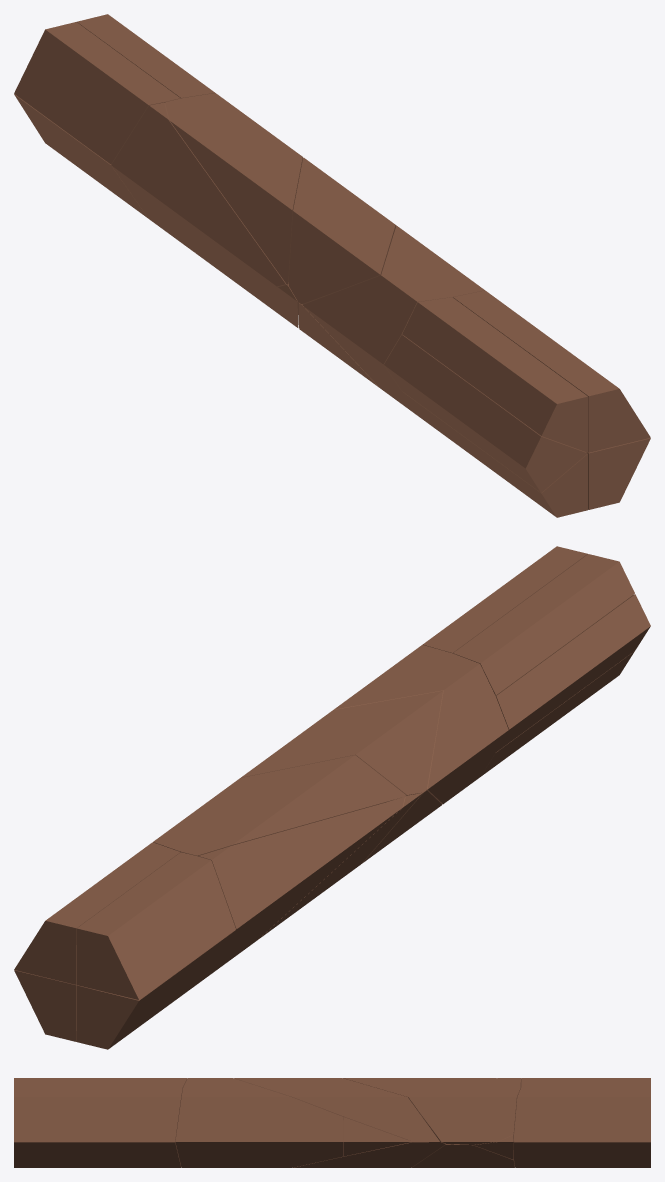
The model's file is BoxBeamBroken.fbx.
3 views of the same model, one above another, from view 1: azimuth 30°, elevation 25°; view 2: azimuth 150°, elevation 25°; view 3: azimuth 270°, elevation 25° (orthographic). The views are drawn at different scales.
Visible parts, largest first — view 1: Cylinder.122_cell.002, Cylinder.122_cell.003, Cylinder.122_cell.013, Cylinder.122_cell.014, Cylinder.122_cell.008, Cylinder.122_cell.009, Cylinder.122_cell.007, Cylinder.122_cell.001, Cylinder.122_cell.015, Cylinder.122_cell.004, Cylinder.122_cell, Cylinder.122_cell.006 (+2 smaller); view 2: Cylinder.122_cell.013, Cylinder.122_cell.002, Cylinder.122_cell.014, Cylinder.122_cell.008, Cylinder.122_cell.003, Cylinder.122_cell.009, Cylinder.122_cell.007, Cylinder.122_cell.004, Cylinder.122_cell, Cylinder.122_cell.001, Cylinder.122_cell.011, Cylinder.122_cell.015 (+2 smaller); view 3: Cylinder.122_cell.008, Cylinder.122_cell.001, Cylinder.122_cell.004, Cylinder.122_cell.014, Cylinder.122_cell.009, Cylinder.122_cell.006, Cylinder.122_cell.011, Cylinder.122_cell.005, Cylinder.122_cell.010, Cylinder.122_cell.003, Cylinder.122_cell.012, Cylinder.122_cell.013 (+1 smaller).
Boxes of the visible parts, <box> form: Cylinder.122_cell.002: <box>111,102,285,286</box>; Cylinder.122_cell.003: <box>402,297,588,452</box>; Cylinder.122_cell.013: <box>14,22,180,164</box>; Cylinder.122_cell.014: <box>165,93,302,284</box>; Cylinder.122_cell.008: <box>302,225,484,414</box>; Cylinder.122_cell.009: <box>288,157,395,304</box>; Cylinder.122_cell.007: <box>384,335,587,492</box>; Cylinder.122_cell.001: <box>453,290,650,452</box>; Cylinder.122_cell.015: <box>402,391,587,517</box>; Cylinder.122_cell.004: <box>77,14,214,98</box>; Cylinder.122_cell: <box>14,94,148,218</box>; Cylinder.122_cell.006: <box>587,438,650,509</box>; Cylinder.122_cell.013: <box>76,852,235,999</box>; Cylinder.122_cell.002: <box>198,797,404,973</box>; Cylinder.122_cell.014: <box>153,755,406,856</box>; Cylinder.122_cell.008: <box>333,645,508,804</box>; Cylinder.122_cell.003: <box>453,554,634,695</box>; Cylinder.122_cell.009: <box>241,691,442,795</box>; Cylinder.122_cell.007: <box>496,594,650,751</box>; Cylinder.122_cell.004: <box>14,842,180,984</box>; Cylinder.122_cell: <box>76,929,235,1049</box>; Cylinder.122_cell.001: <box>422,546,587,653</box>; Cylinder.122_cell.011: <box>14,970,76,1041</box>; Cylinder.122_cell.015: <box>480,651,634,776</box>; Cylinder.122_cell.008: <box>175,1078,342,1167</box>; Cylinder.122_cell.001: <box>14,1087,182,1141</box>; Cylinder.122_cell.004: <box>514,1087,650,1141</box>; Cylinder.122_cell.014: <box>343,1078,520,1144</box>; Cylinder.122_cell.009: <box>234,1078,439,1141</box>; Cylinder.122_cell.006: <box>14,1131,181,1167</box>; Cylinder.122_cell.011: <box>514,1141,650,1167</box>; Cylinder.122_cell.005: <box>293,1120,445,1167</box>; Cylinder.122_cell.010: <box>411,1143,514,1167</box>; Cylinder.122_cell.003: <box>14,1078,187,1095</box>; Cylinder.122_cell.012: <box>343,1117,412,1156</box>; Cylinder.122_cell.013: <box>521,1078,650,1087</box>.
Bounding box in the file's own units: 43.73 × 37.87 × 309.
